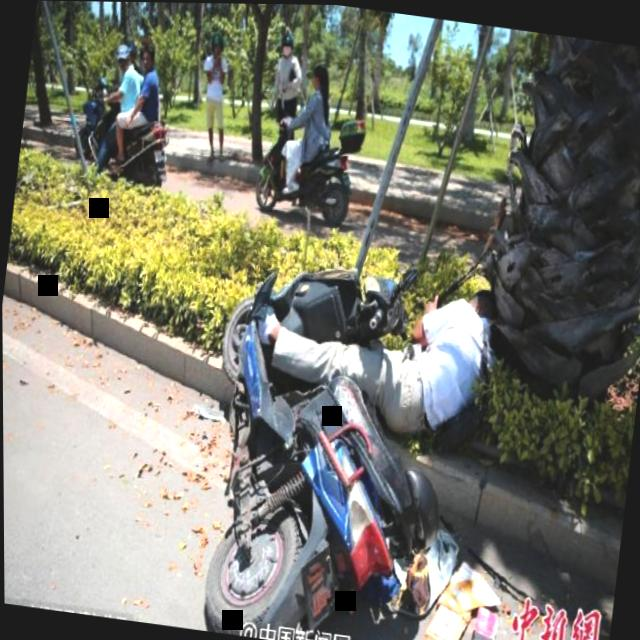Fall-Detected: (230, 236, 518, 441)
